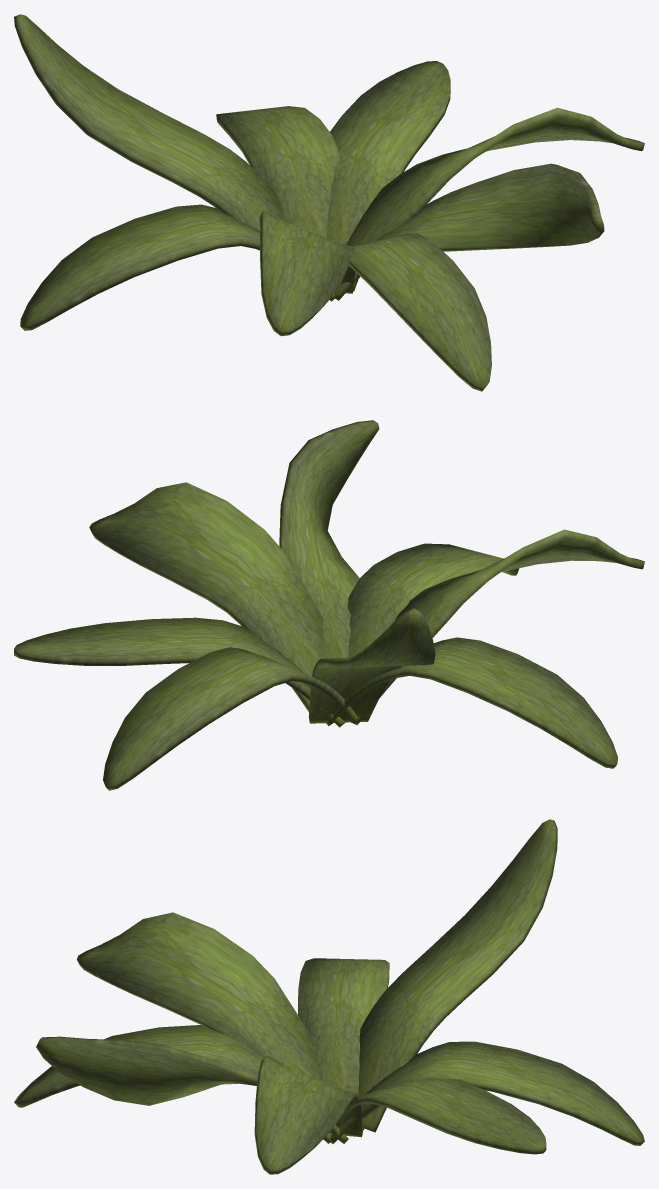
Rendered from calyx5_1002.dae.
The picture shows the model from 3 angles, top to bottom: view 1: azimuth 30°, elevation 25°; view 2: azimuth 150°, elevation 25°; view 3: azimuth 270°, elevation 25°; orthographic projection. The views are drawn at different scales.
Parts seen in each view (by area): view 1: calyx2, calyx5, calyx1, calyx3_001, calyx3, calyx3_002, calyx4_001, calyx4; view 2: calyx4_001, calyx3_002, calyx5, calyx3, calyx1, calyx3_001, calyx2, calyx4; view 3: calyx4, calyx2, calyx3_002, calyx5, calyx3, calyx4_001, calyx1, calyx3_001.
Part boxes in pixels (x1,y1,x2,y2): calyx2: (14,14,284,230); calyx5: (346,163,604,272); calyx1: (326,61,450,291); calyx3_001: (348,233,491,391); calyx3: (20,204,334,330); calyx3_002: (216,106,339,237); calyx4_001: (334,107,644,300); calyx4: (259,210,354,336); calyx4_001: (89,482,326,711); calyx3_002: (103,647,357,790); calyx5: (279,420,379,658); calyx3: (326,637,617,768); calyx1: (14,617,344,727); calyx3_001: (347,543,519,657); calyx2: (308,608,435,723); calyx4: (351,529,644,724); calyx4: (77,912,320,1079); calyx2: (358,819,557,1132); calyx3_002: (330,1041,644,1145); calyx5: (36,1036,348,1143); calyx3: (298,958,389,1130); calyx4_001: (254,1055,362,1174); calyx1: (323,1078,546,1154); calyx3_001: (14,1025,331,1143).
Bounding box in the file's own units: 0.088 × 0.0874 × 0.0345.
8 materials, 8 textured.
